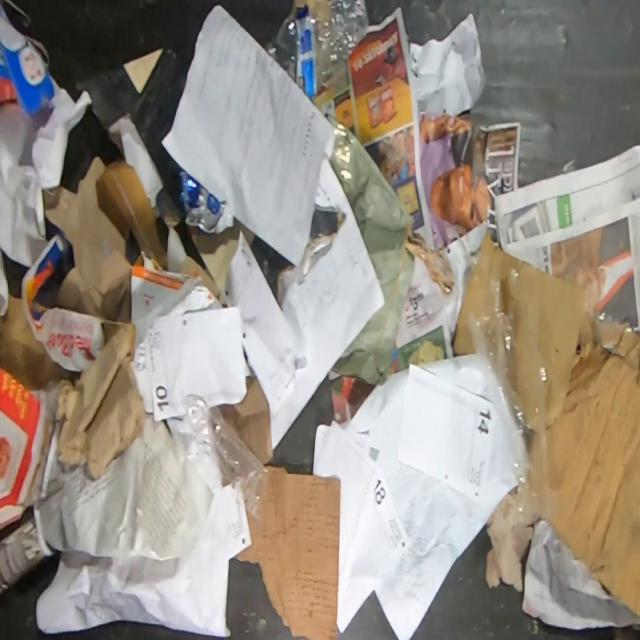cardboard: (479, 228, 640, 617), (42, 155, 148, 482), (234, 464, 340, 640), (0, 367, 57, 528), (94, 159, 166, 262), (0, 0, 56, 118), (0, 299, 68, 391), (216, 374, 272, 463)
metal: (179, 169, 234, 234)
rigid_plastic: (264, 0, 369, 97)
soft_plastic: (419, 134, 551, 523), (323, 111, 416, 384), (173, 393, 265, 521)
